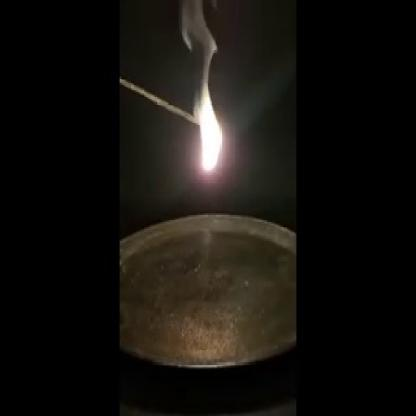fire: (191, 79, 223, 182)
